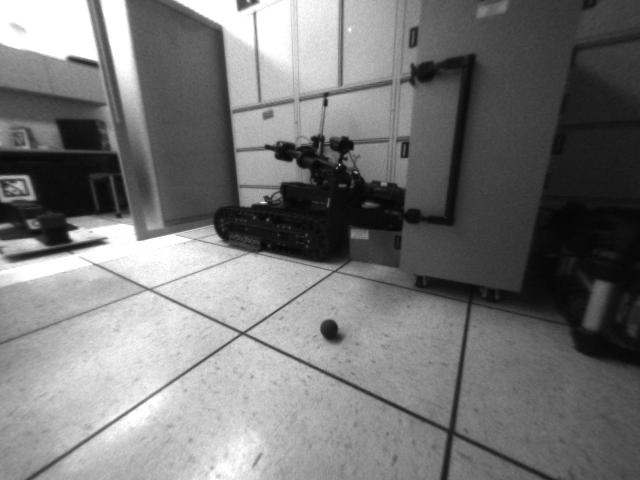dogtoy: (313, 313, 348, 345)
